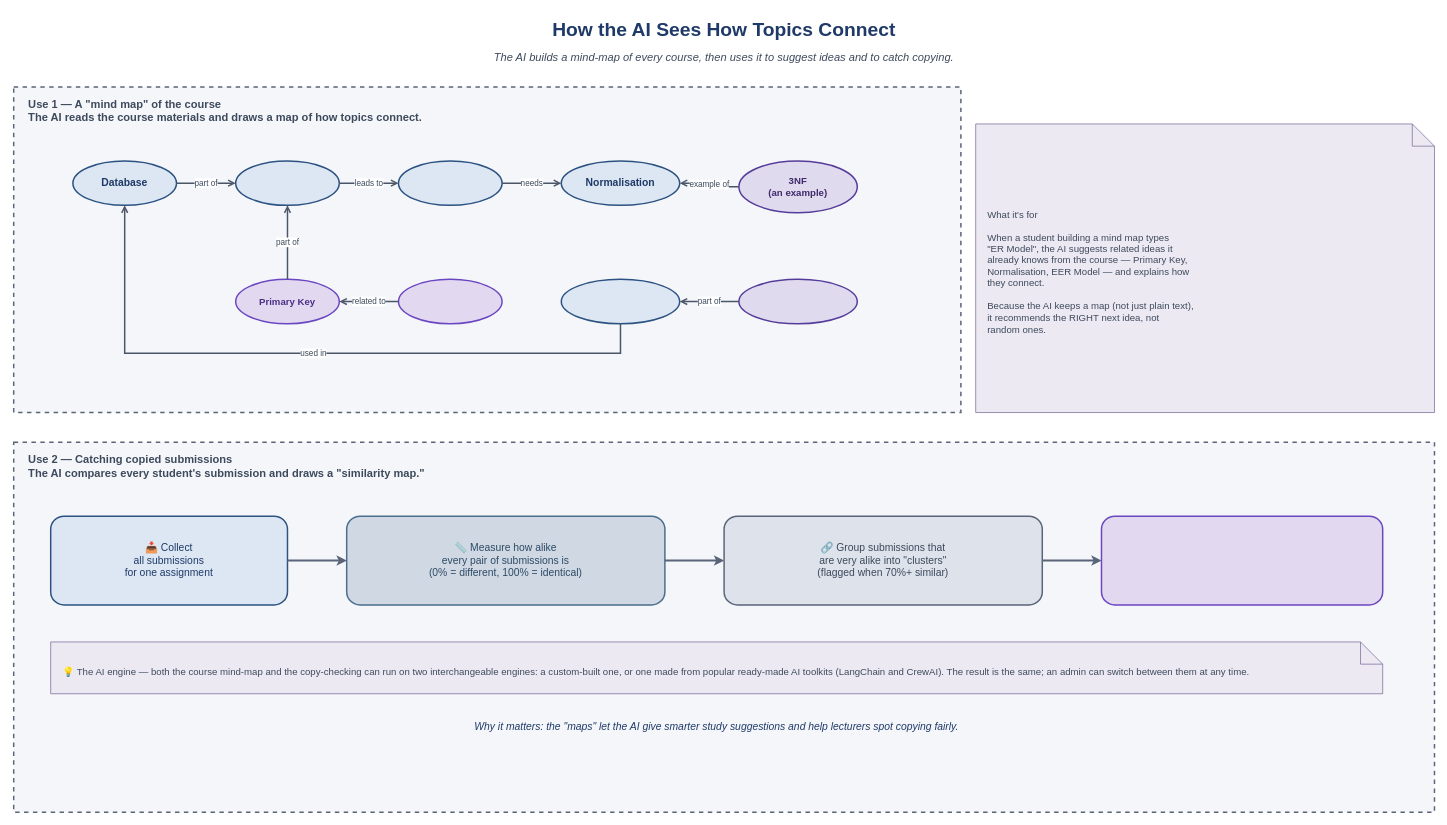
Image size: 1447x825. Some labels were removed from this diagram. Each missing label, with the centre of its shape:
"EER Model" belongs at (x=449, y=183).
"ER Model" belongs at (x=287, y=183).
"Foreign Key" belongs at (x=449, y=301).
"JOIN" belongs at (x=798, y=301).
"SQL" belongs at (x=620, y=301).
"📋 Show the lecturer a clear report of which students may have copied" belongs at (x=1241, y=560).
